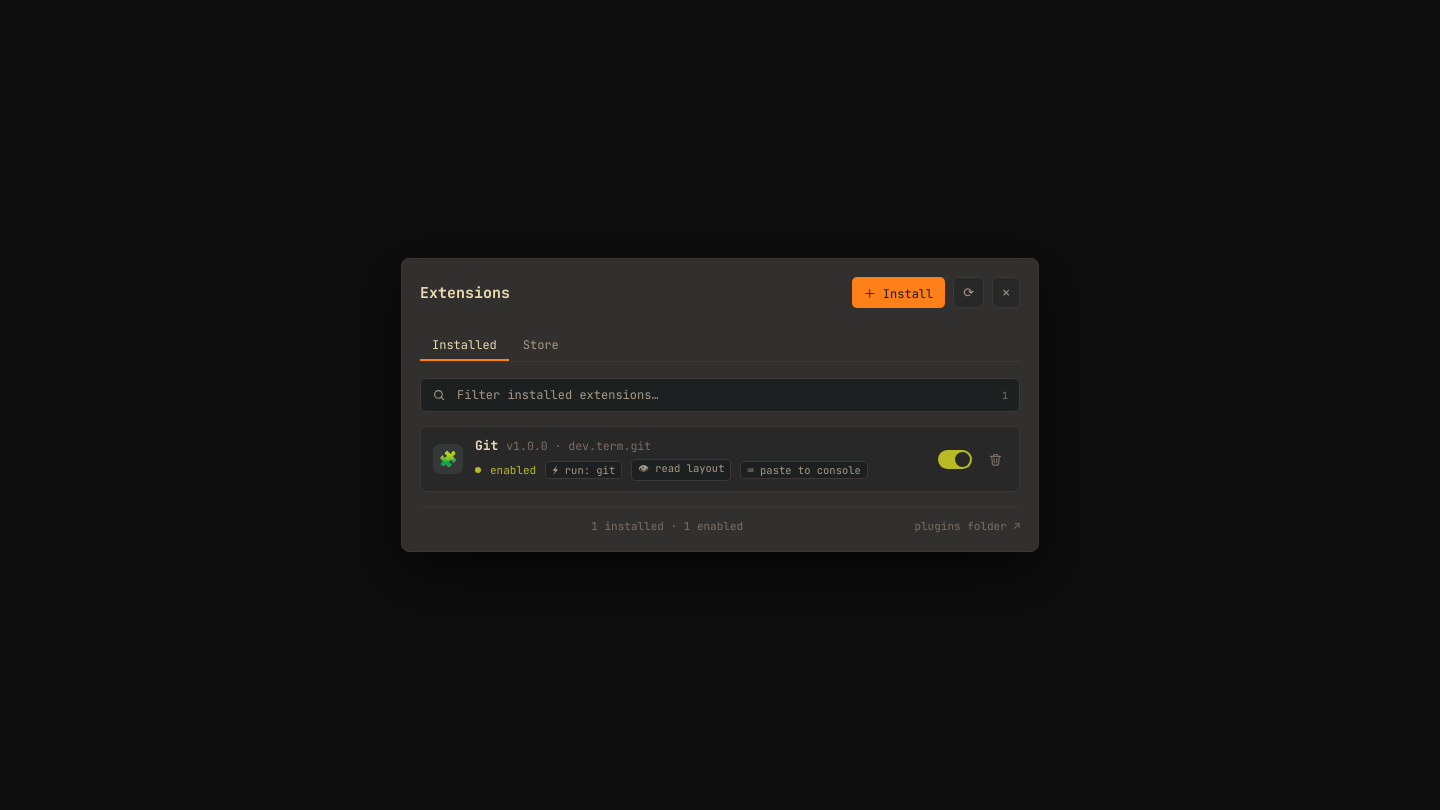
ExtensionsScreen store tab › renders Installed and Store tabs; Store tab shows the catalog
Step 1. Click the tab "Store" → {"x": 541, "y": 346}, box 511,331 -> 571,361
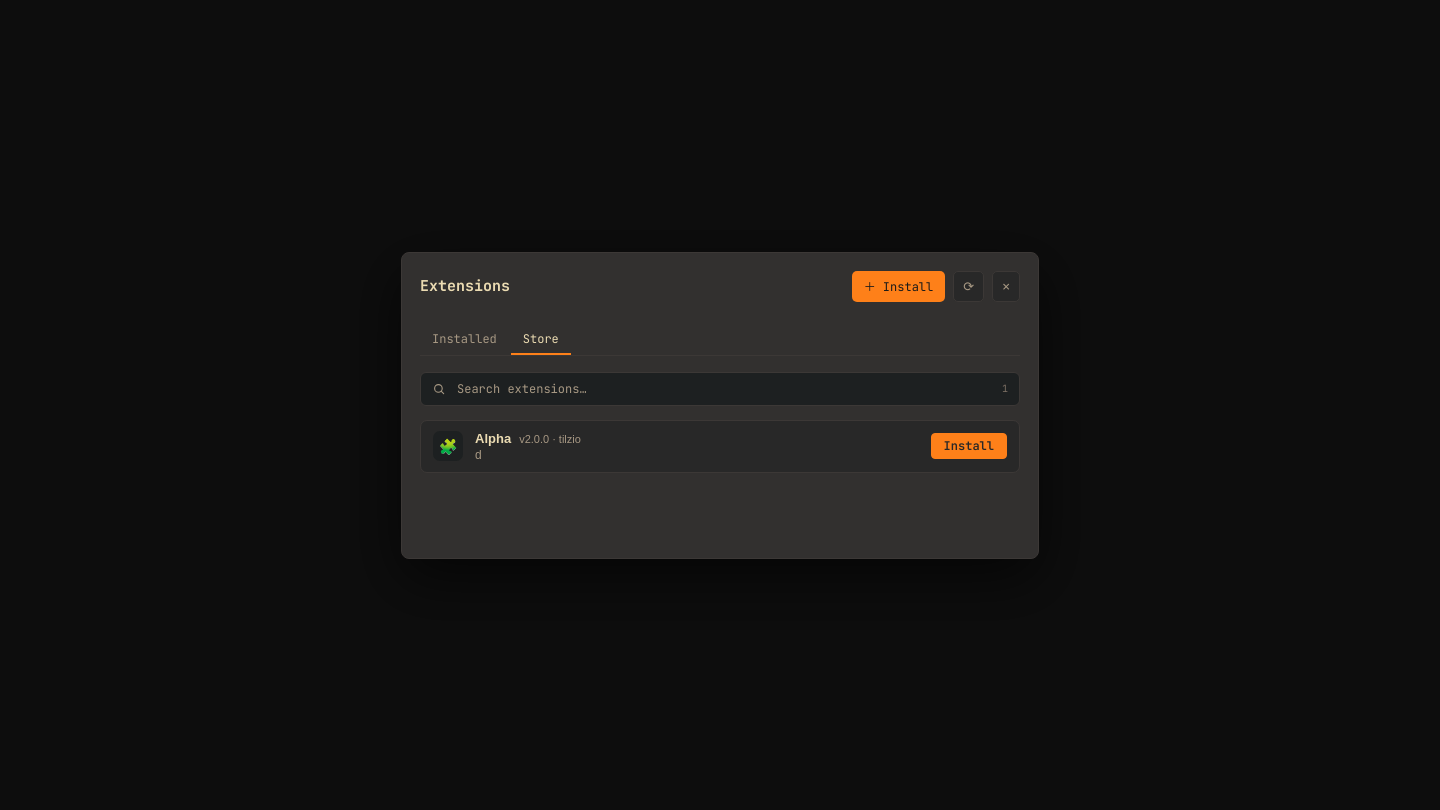
Expected: the text "Alpha" is shown, 475,430 -> 511,446
